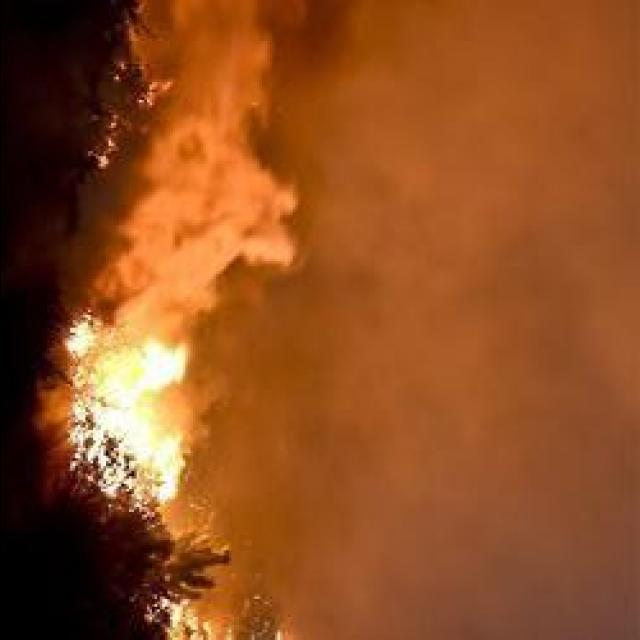fire: (65, 318, 187, 508)
smoke: (167, 49, 299, 268), (108, 150, 240, 336), (128, 2, 262, 52)
